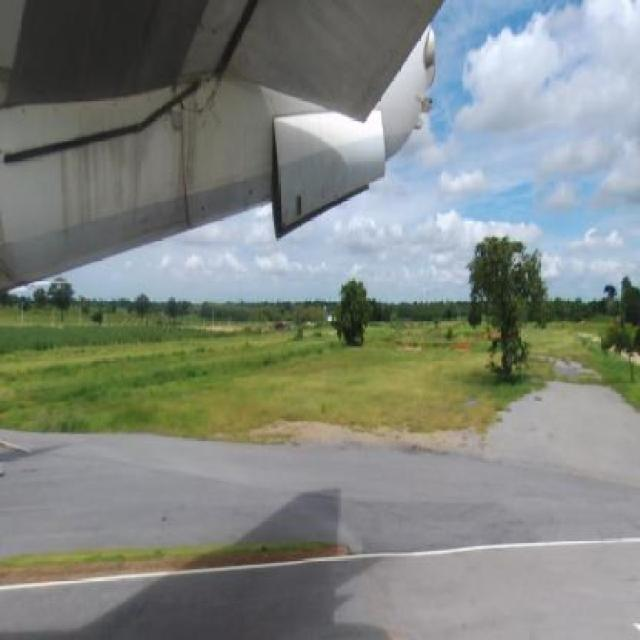Rust: (54, 125, 166, 240), (172, 91, 219, 235)
